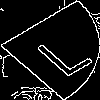L: (24, 25, 95, 79)
